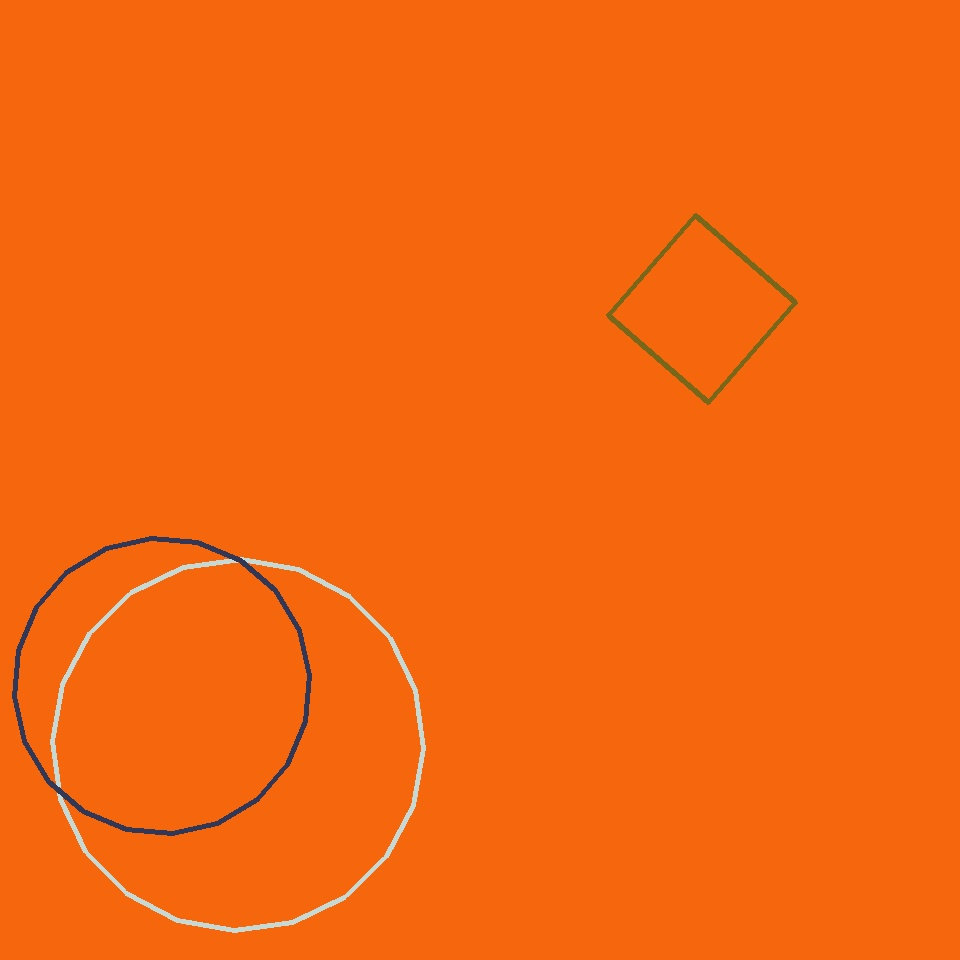square: (608, 216, 796, 403)
triangle: (52, 560, 424, 930), (15, 538, 310, 834)
